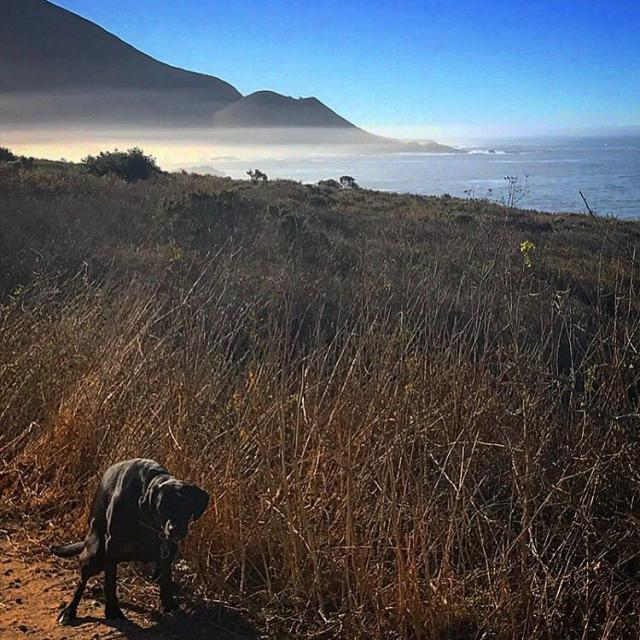squatting: (48, 450, 217, 629)
